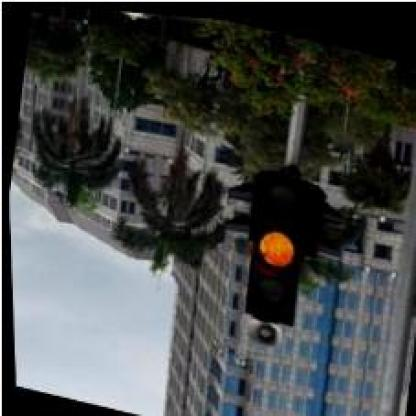yellow: (236, 167, 314, 324)
